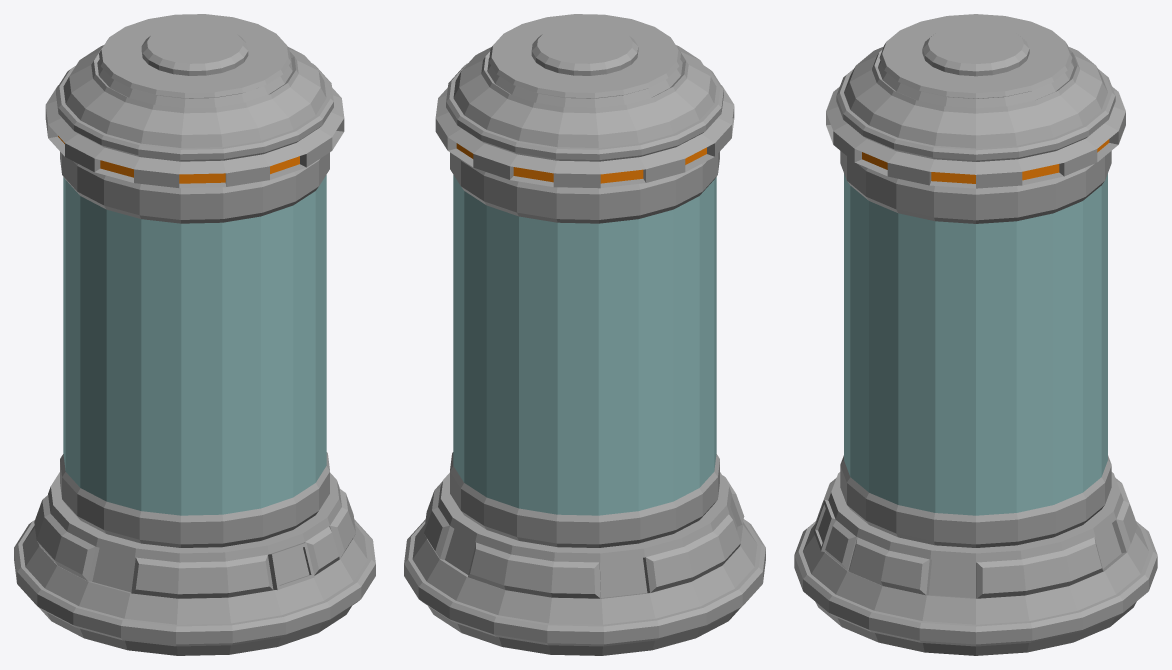
3 views of the same model, side by side, from view 1: azimuth 30°, elevation 25°; view 2: azimuth 150°, elevation 25°; view 3: azimuth 270°, elevation 25° (orthographic).
Parts seen in each view (by area): view 1: pCylinder23; view 2: pCylinder23; view 3: pCylinder23.
Part boxes in pixels (bbox=[...]): pCylinder23: bbox=[14, 14, 375, 655]; pCylinder23: bbox=[404, 14, 765, 655]; pCylinder23: bbox=[794, 14, 1157, 655].
Bounding box in the file's own units: 3.33 × 5.47 × 3.33.
